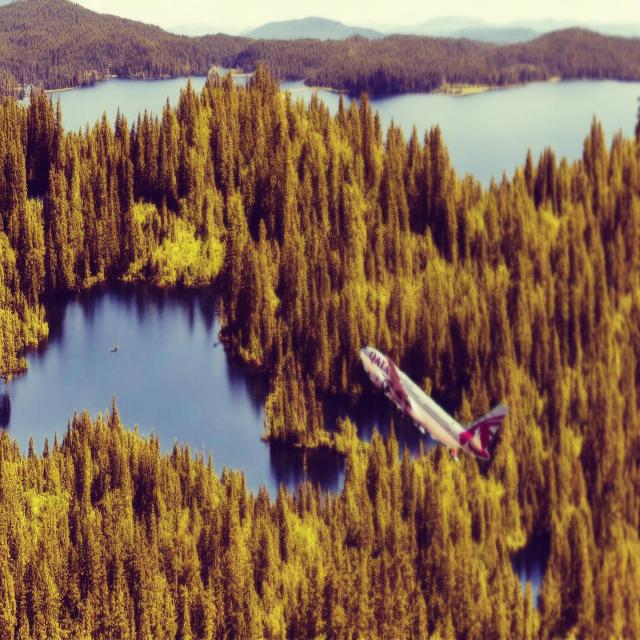airplane: (359, 344, 508, 464)
